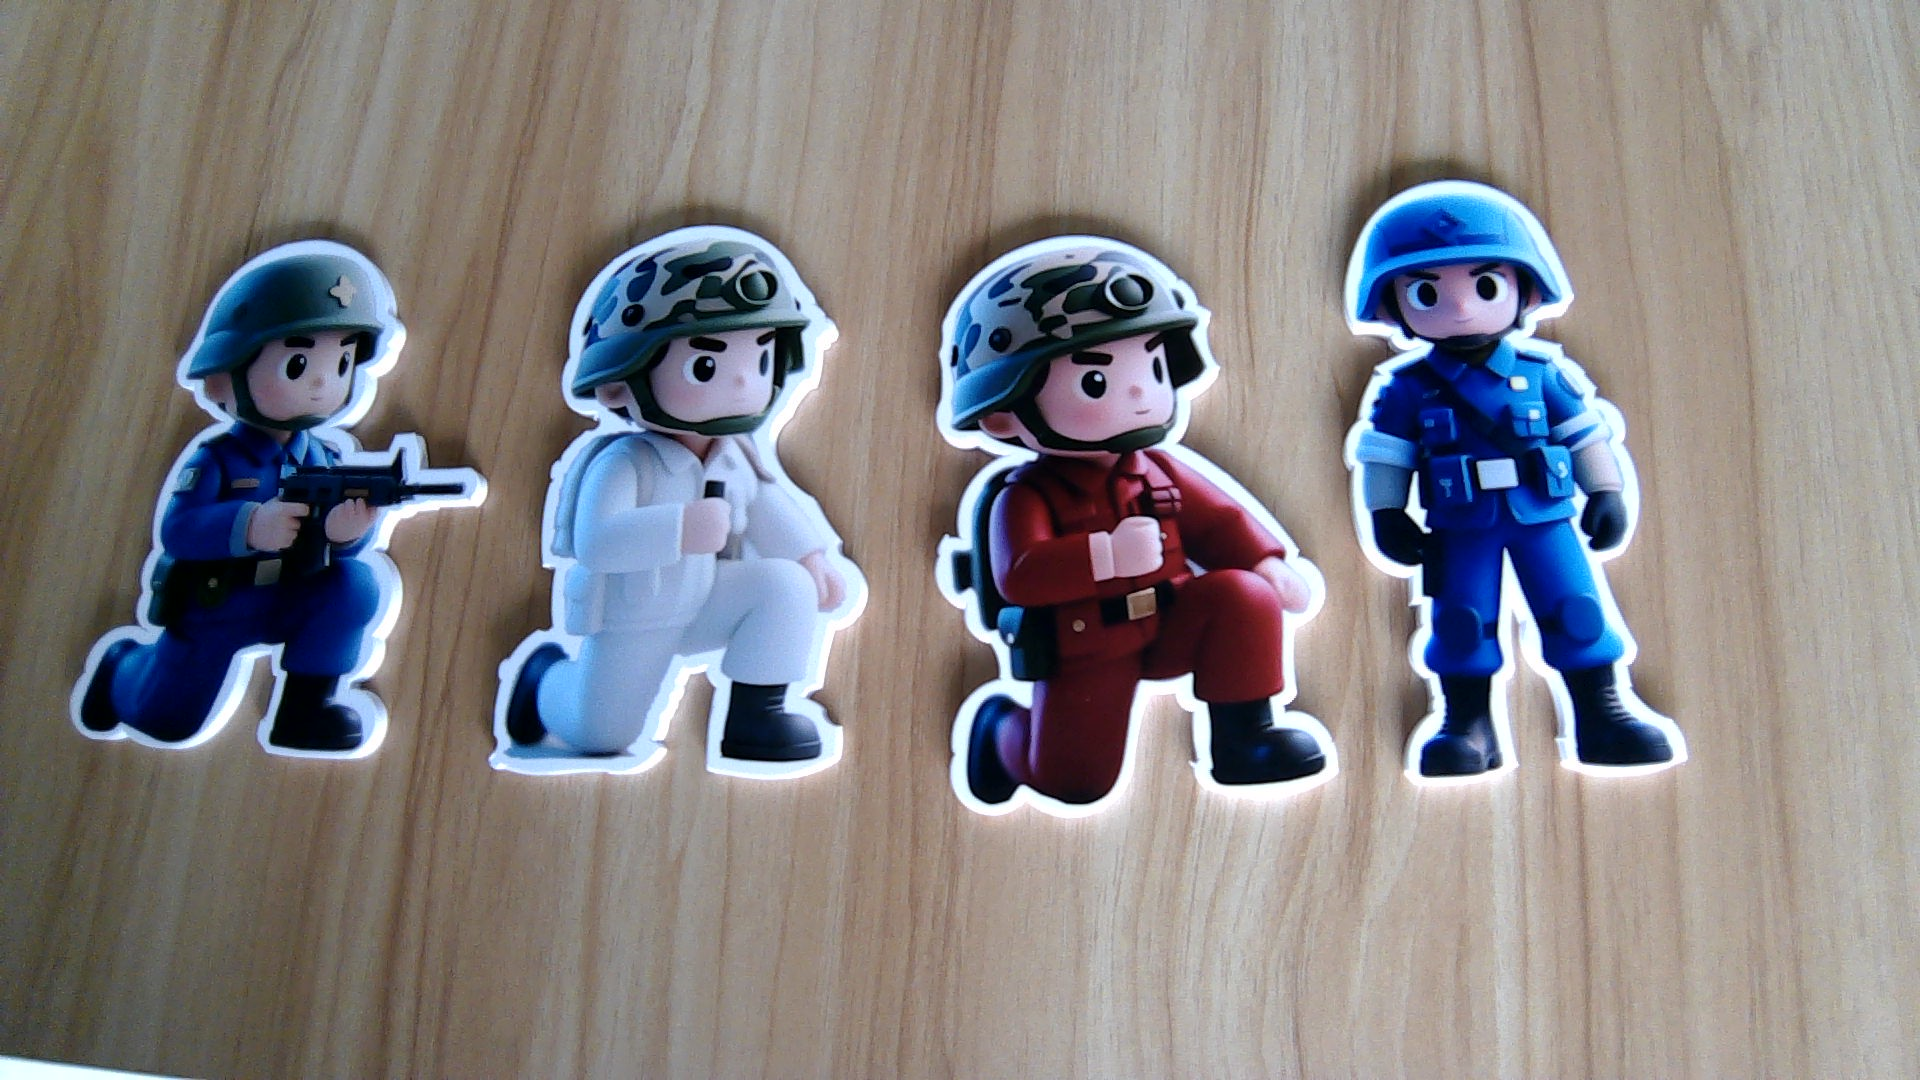人质: (483, 433, 872, 786)
敌人1: (928, 456, 1342, 816)
敌人2: (1331, 342, 1702, 798), (62, 426, 485, 765)
